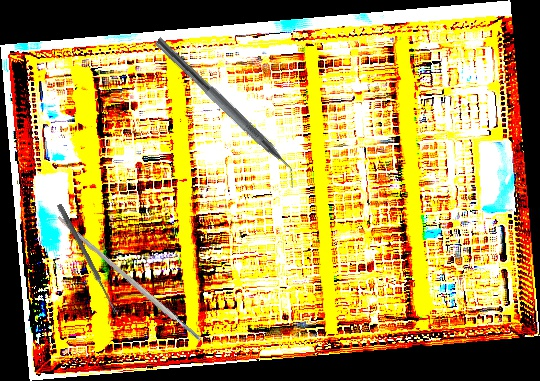Chopper: (144, 37, 307, 190)
Scalpel Handle: (55, 214, 203, 344)
Surgical Spoon: (55, 203, 120, 315)
